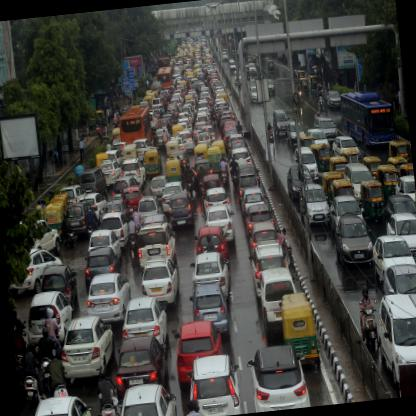bus: (340, 87, 393, 150), (118, 106, 154, 151), (156, 64, 173, 86)
car: (245, 344, 308, 412), (58, 312, 116, 380), (183, 351, 242, 415), (376, 292, 415, 388), (172, 320, 222, 392), (258, 268, 300, 338), (26, 288, 76, 344), (118, 296, 169, 350), (84, 270, 132, 324), (381, 265, 415, 341), (332, 212, 376, 270), (249, 238, 288, 302), (188, 248, 230, 306), (188, 280, 229, 337), (368, 233, 415, 282), (22, 245, 65, 295), (115, 382, 179, 415), (138, 256, 182, 304), (135, 220, 177, 266), (385, 210, 415, 274), (192, 224, 230, 270), (26, 392, 94, 415), (86, 226, 122, 264), (84, 246, 118, 286), (204, 204, 236, 246), (344, 162, 374, 206), (28, 217, 61, 255), (304, 184, 332, 228), (64, 199, 98, 235), (165, 190, 194, 231), (386, 192, 415, 232), (102, 211, 130, 252), (78, 166, 109, 202), (286, 164, 315, 202), (119, 157, 146, 191), (294, 145, 316, 182), (330, 132, 360, 156), (137, 192, 161, 221), (100, 160, 123, 187), (270, 106, 289, 135), (133, 139, 149, 162), (180, 130, 194, 154)
motorcycle: (358, 284, 382, 350), (94, 361, 120, 415), (44, 345, 68, 396), (218, 153, 230, 186), (184, 162, 196, 195), (229, 154, 240, 184)
